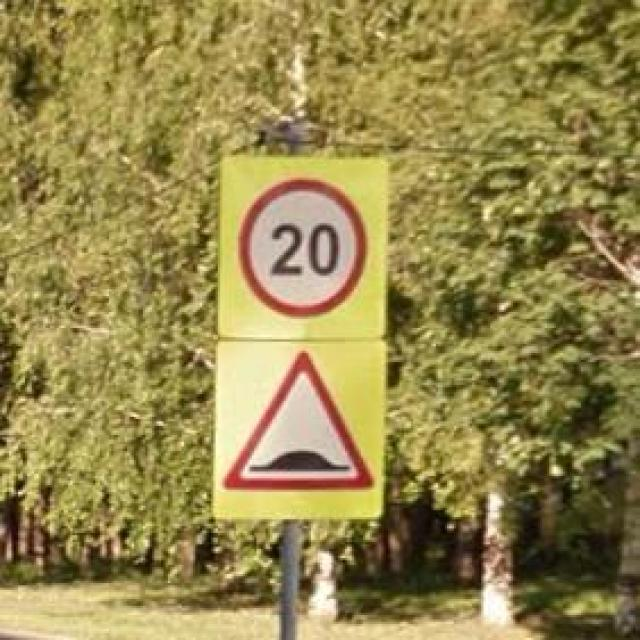forb_speed_over_20: (239, 178, 366, 319)
